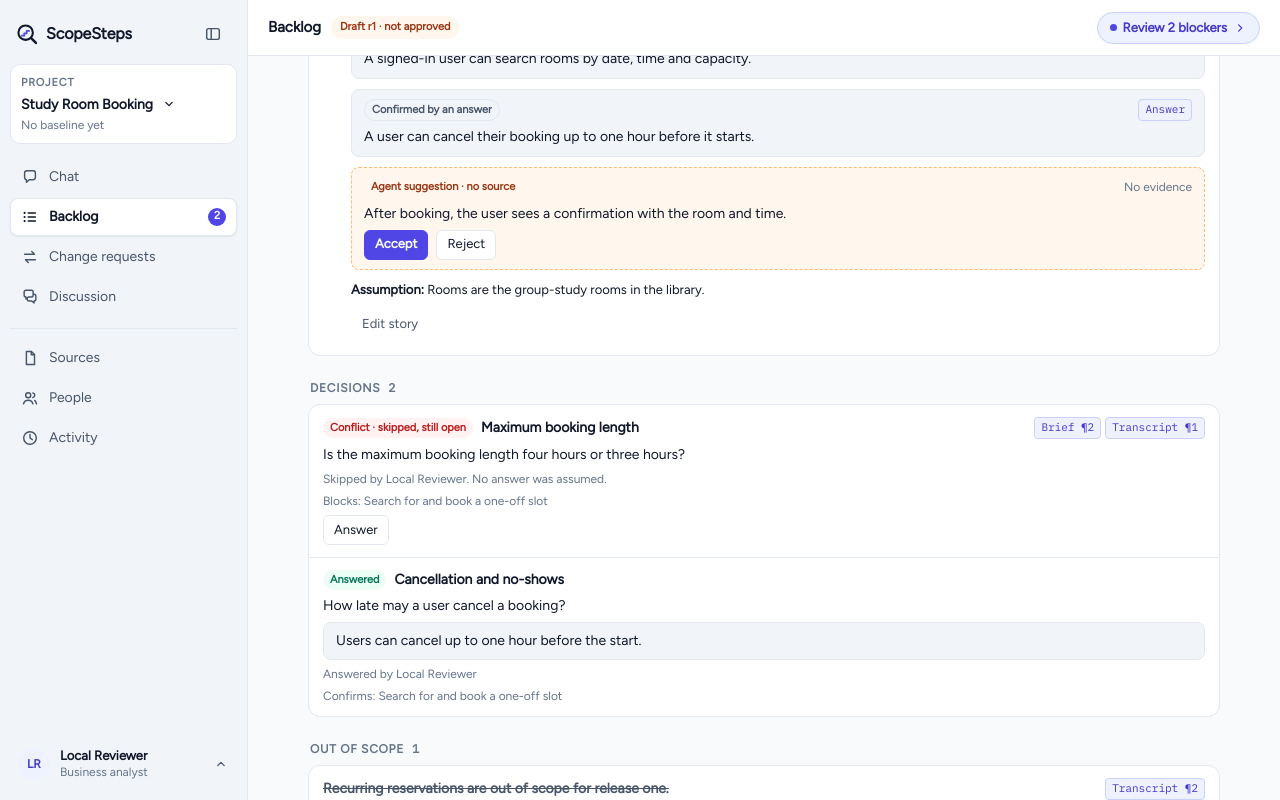
Scenario: BacklogView › lists the decisions, and an unresolved conflict with both conflicting passages
(page scrolled)
Expected: the text "Conflict · skipped, still open" is shown, left=323, top=418, right=473, bottom=438
Expected: the text "Skipped by Local Reviewer. No answer was assumed." is shown, left=323, top=472, right=607, bottom=486
Click the button with aria-label "Transcript ¶1, evidence for: Maximum booking length".
click(1155, 428)  # box left=1105, top=417, right=1205, bottom=439
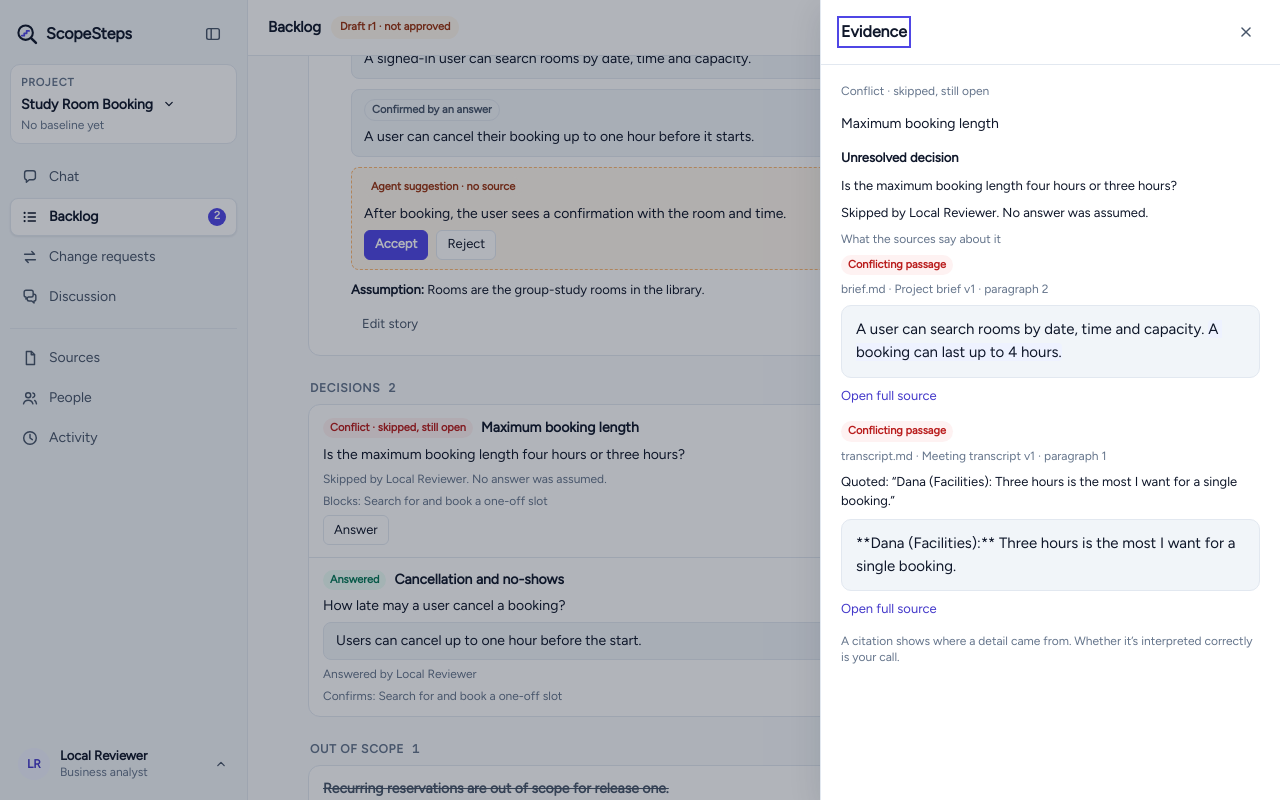
Result: the text "A booking can last up to 4 hours." is shown at left=856, top=320, right=1222, bottom=361
Result: the text "Conflicting passage" is shown 2 times at left=841, top=254, right=953, bottom=275; left=841, top=421, right=953, bottom=442
